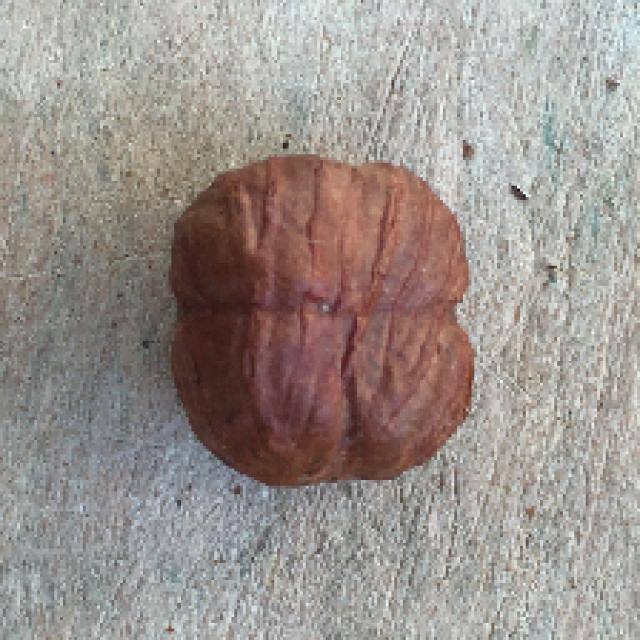hazelnut: (169, 146, 484, 497)
